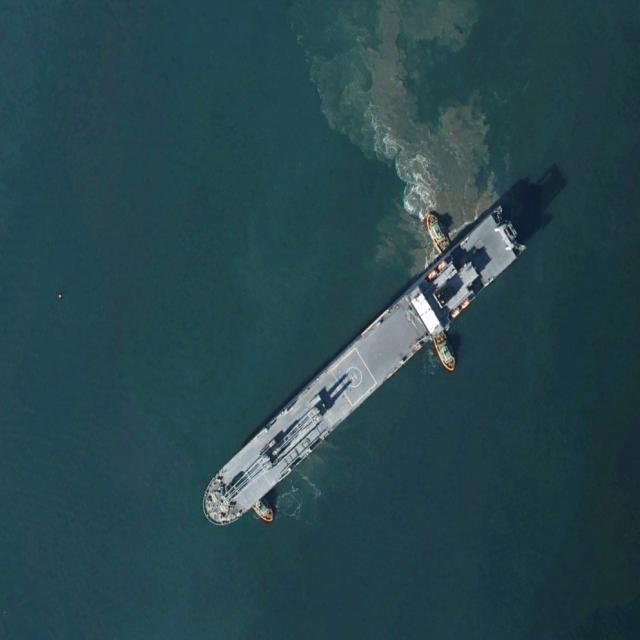Cargo: (189, 200, 528, 539)
Hovercraft: (431, 326, 461, 374), (422, 205, 451, 254), (252, 495, 276, 526)
